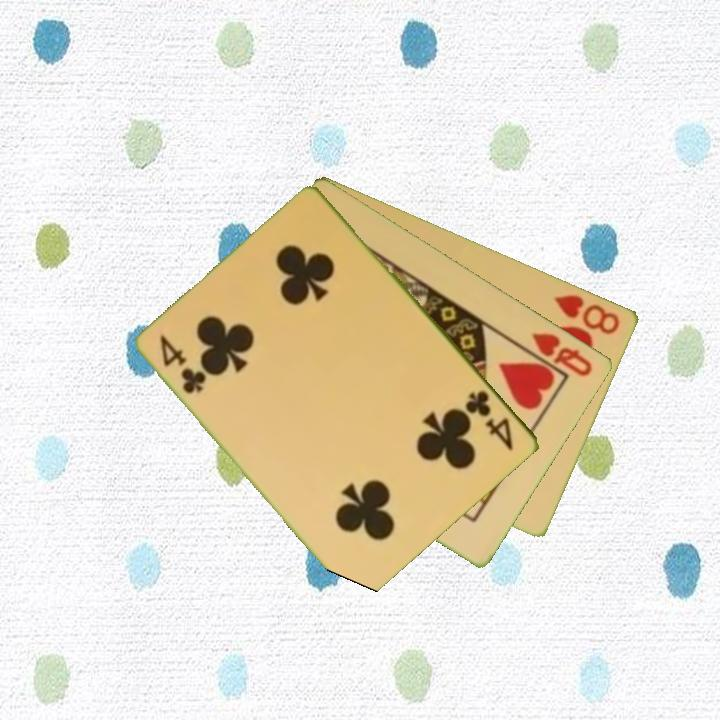4c: (462, 386, 517, 454), (156, 331, 209, 397)
8h: (551, 290, 623, 337)
Qh: (528, 329, 596, 380)
